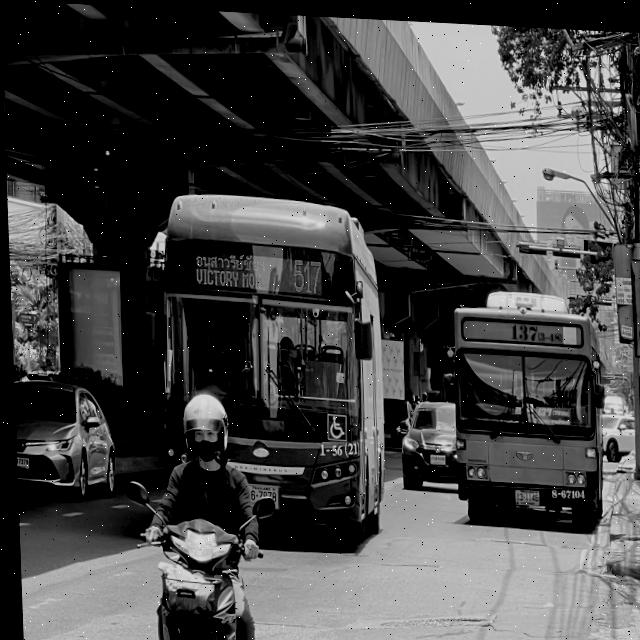BMTA-bus: (150, 185, 389, 546), (448, 280, 608, 529)
Bus Line Number: (287, 250, 324, 293), (506, 318, 563, 340)
Bus Side Number: (315, 436, 357, 457), (546, 482, 583, 496)
Destination Sign: (190, 246, 269, 291), (526, 398, 569, 422)
